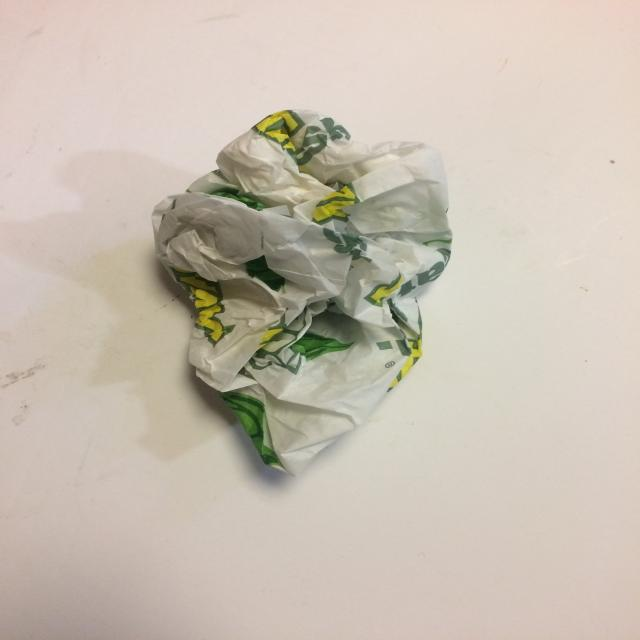Trash: (150, 108, 453, 478)
